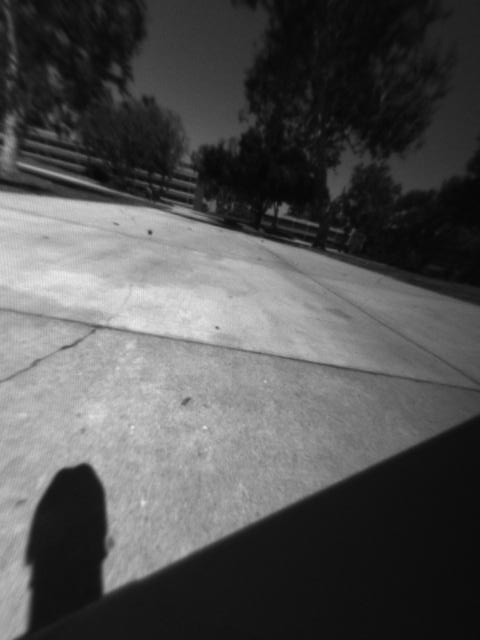dogtoy: (138, 222, 164, 242)
